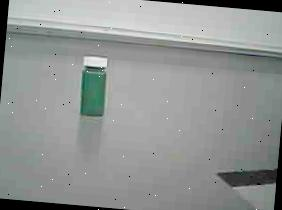Bottle C: (66, 48, 122, 126)
